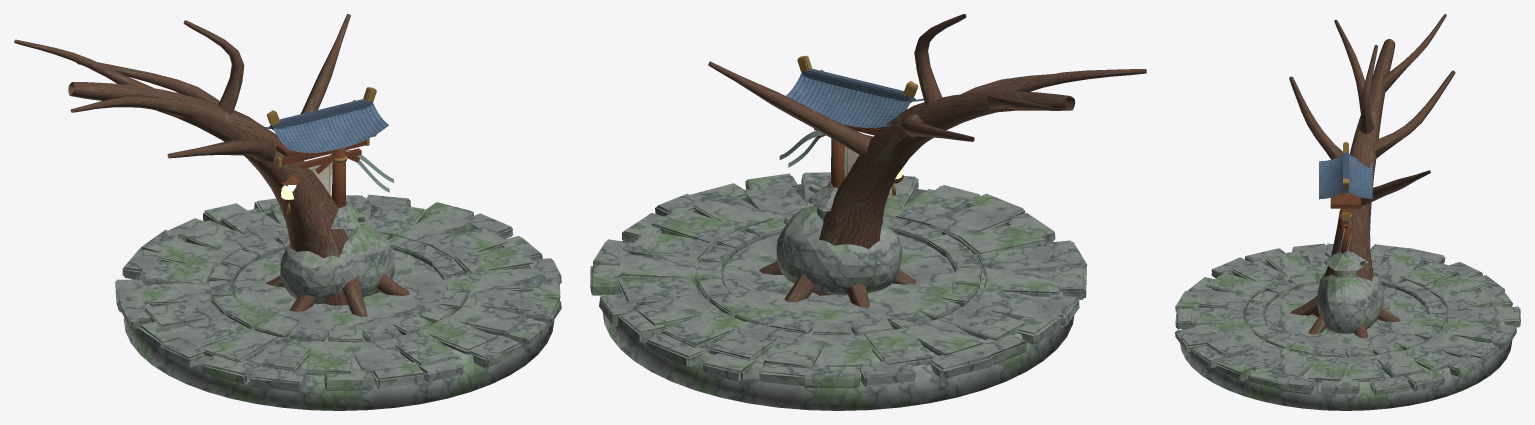
The model's file is guofeng_spawn_shrine.glb.
3 views of the same model, side by side, from view 1: azimuth 30°, elevation 25°; view 2: azimuth 150°, elevation 25°; view 3: azimuth 270°, elevation 25° (orthographic). The views are drawn at different scales.
Visible parts, largest first — view 1: Terrace, SakuraTrunk, Waypost, RuneBoulder, StoneLantern; view 2: Terrace, SakuraTrunk, RuneBoulder, Waypost, StoneLantern; view 3: Terrace, SakuraTrunk, RuneBoulder, Waypost, StoneLantern.
Part boxes in pixels (bbox=[...]): Terrace: bbox=[115, 194, 561, 410]; SakuraTrunk: bbox=[14, 14, 410, 317]; Waypost: bbox=[264, 87, 393, 214]; RuneBoulder: bbox=[280, 224, 394, 303]; StoneLantern: bbox=[331, 204, 368, 234]; Terrace: bbox=[590, 172, 1086, 410]; SakuraTrunk: bbox=[708, 14, 1146, 308]; RuneBoulder: bbox=[776, 205, 902, 294]; Waypost: bbox=[779, 55, 923, 195]; StoneLantern: bbox=[806, 184, 838, 214]; Terrace: bbox=[1175, 243, 1520, 410]; SakuraTrunk: bbox=[1289, 14, 1455, 338]; RuneBoulder: bbox=[1317, 272, 1384, 333]; Waypost: bbox=[1319, 142, 1372, 267]; StoneLantern: bbox=[1323, 251, 1368, 273].
Bounding box in the file's own units: 10.25 × 6.93 × 8.51.
7 materials, 7 textured.
